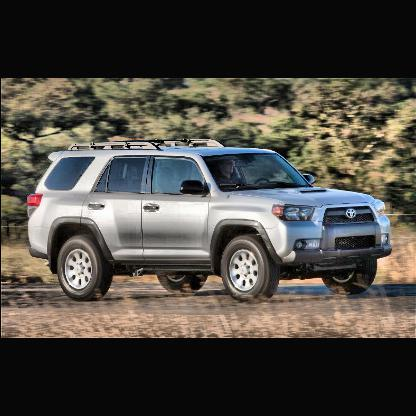Toyota 4Runner SUV 2012: (26, 138, 397, 303)
